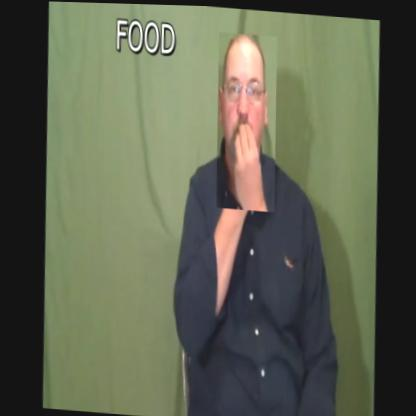Food: (209, 30, 282, 211)
